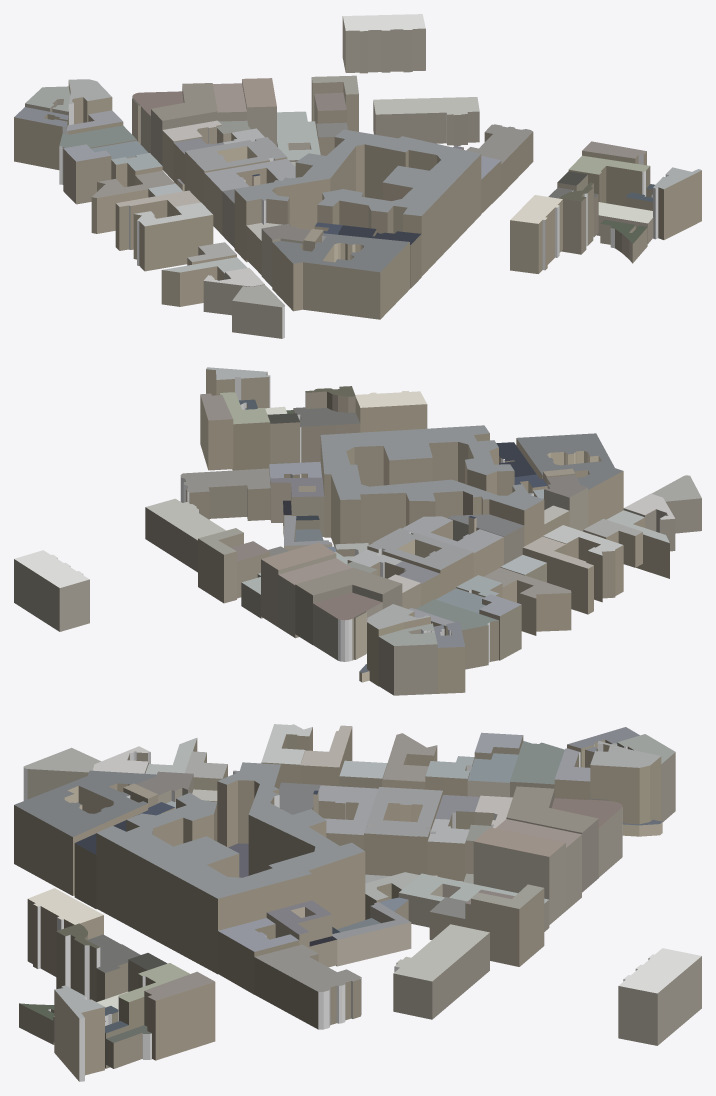
3 renders of one model, top to bottom at view 1: azimuth 30°, elevation 25°; view 2: azimuth 150°, elevation 25°; view 3: azimuth 270°, elevation 25°, orthographic. The views are drawn at different scales.
Visible parts, largest first — view 1: tuile; view 2: tuile; view 3: tuile.
Part boxes in pixels (box(x1,y1,x2,y2)): tuile: box(14, 14, 701, 338); tuile: box(14, 367, 701, 695); tuile: box(14, 724, 701, 1081).
Size of the model in its own units: 288 by 38.73 by 280.
